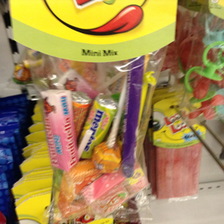candy: (13, 2, 164, 183), (153, 100, 211, 202), (190, 4, 224, 114)
